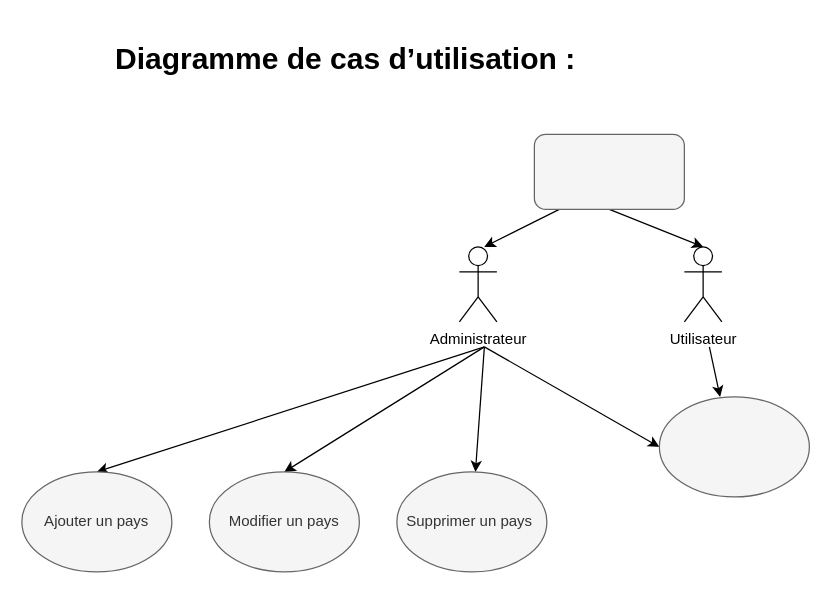
This 831x594 diagram has some shape labels left out. The shapes that lost their labels are listed below. From the top down, each one's box as (x1, y1, x2, y2) in pixels, then its label:
(533, 133, 684, 209): Système de Gestion des Pays Africains et Villes
(658, 396, 809, 497): Afficher les pays africains avec leurs détails
